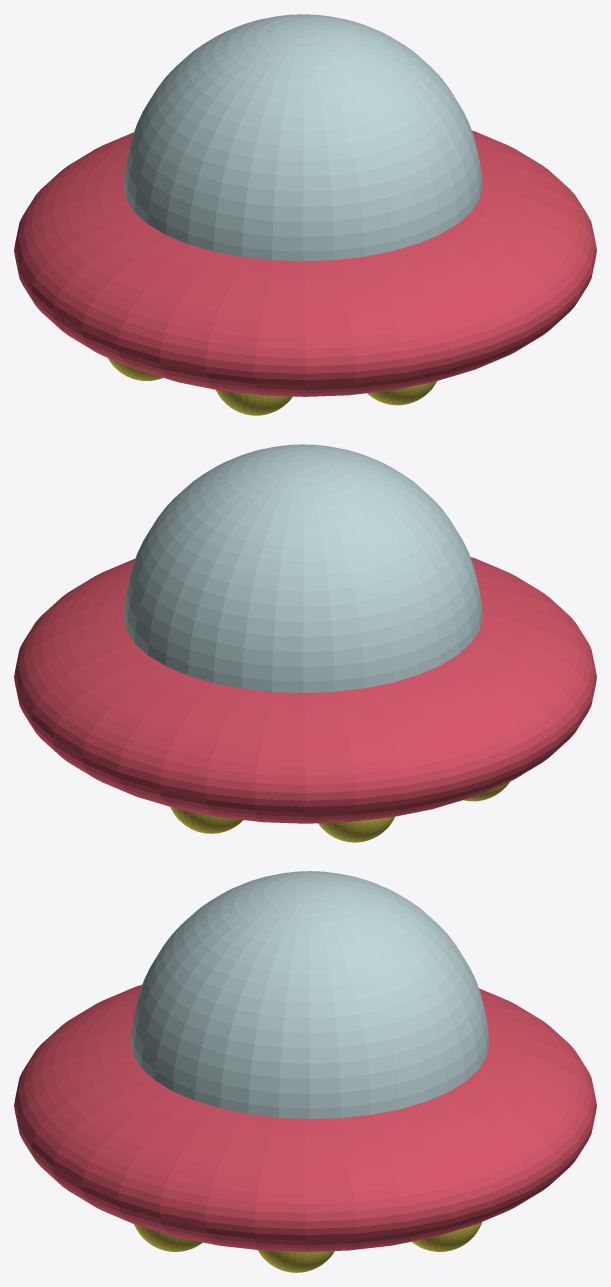
File: RedFlyingSaucer.glb
3 renders of one model, top to bottom at view 1: azimuth 30°, elevation 25°; view 2: azimuth 150°, elevation 25°; view 3: azimuth 270°, elevation 25°, orthographic.
Visible parts, largest first — view 1: Mesh_Mesh_head_geo.001_lambert2SG.001; view 2: Mesh_Mesh_head_geo.001_lambert2SG.001; view 3: Mesh_Mesh_head_geo.001_lambert2SG.001.
Part boxes in pixels (x1=…): Mesh_Mesh_head_geo.001_lambert2SG.001: x1=14, y1=14, x2=596, y2=415; Mesh_Mesh_head_geo.001_lambert2SG.001: x1=14, y1=444, x2=596, y2=842; Mesh_Mesh_head_geo.001_lambert2SG.001: x1=14, y1=871, x2=596, y2=1272.
Bounding box in the file's own units: 130 × 74 × 130.
